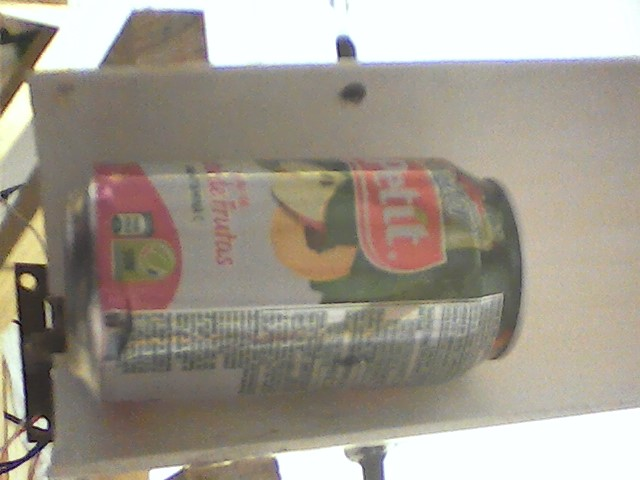lata: (59, 145, 537, 408)
